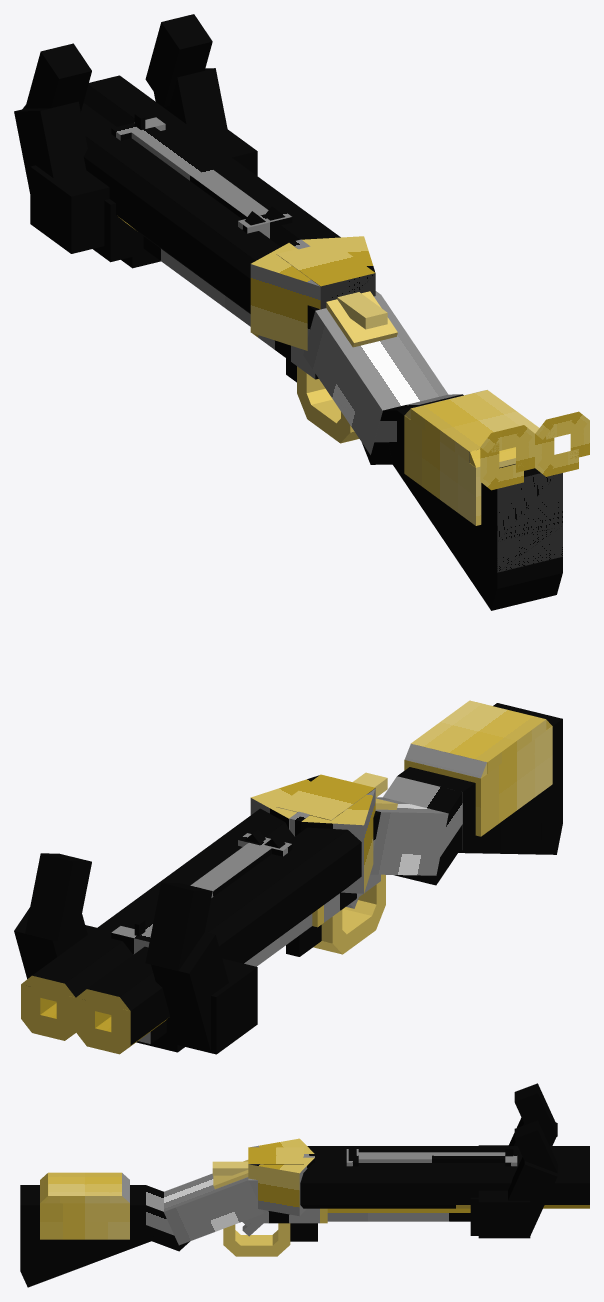
File: mteg_hog_bonker.glb
3 views of the same model, one above another, from view 1: azimuth 30°, elevation 25°; view 2: azimuth 150°, elevation 25°; view 3: azimuth 270°, elevation 25° (orthographic). The views are drawn at different scales.
Visible parts, largest first — view 1: Gun; view 2: Gun; view 3: Gun.
Boxes of the visible parts, left/top/right/bottom form: Gun: left=14, top=14, right=589, bottom=610; Gun: left=14, top=700, right=562, bottom=1054; Gun: left=20, top=1083, right=589, bottom=1287.
Size of the model in its own units: 0.2124 by 0.2968 by 0.9066.
1 material, 1 textured.
